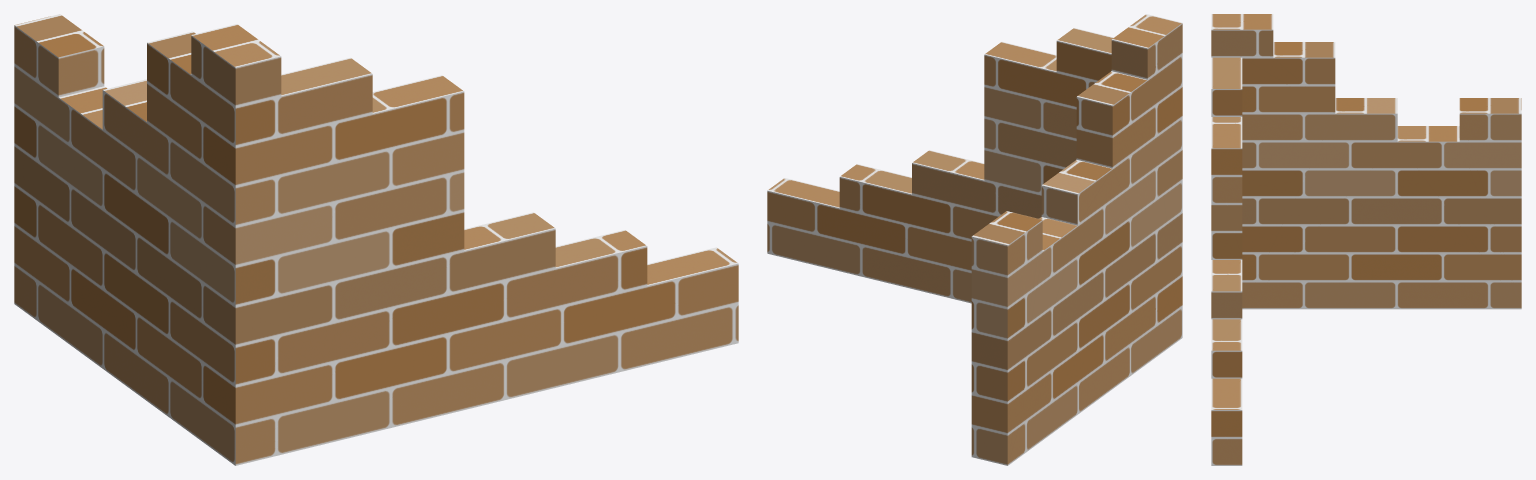
The model's file is brick-ruins-corner-a.fbx.
The picture shows the model from 3 angles, left to right: view 1: azimuth 30°, elevation 25°; view 2: azimuth 150°, elevation 25°; view 3: azimuth 270°, elevation 25°; orthographic projection. The views are drawn at different scales.
Visible parts, largest first — view 1: brick-ruins-corner-a; view 2: brick-ruins-corner-a; view 3: brick-ruins-corner-a.
Boxes of the visible parts, x1,y1,x2,y2 form: brick-ruins-corner-a: (14, 14, 738, 465); brick-ruins-corner-a: (767, 14, 1182, 465); brick-ruins-corner-a: (1211, 14, 1521, 465).
Size of the model in its own units: 220 by 167 by 168.
1 material, 1 textured.
